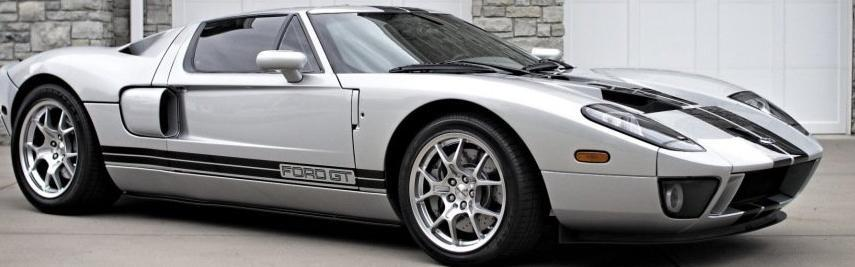Cars: (1, 9, 823, 265)
